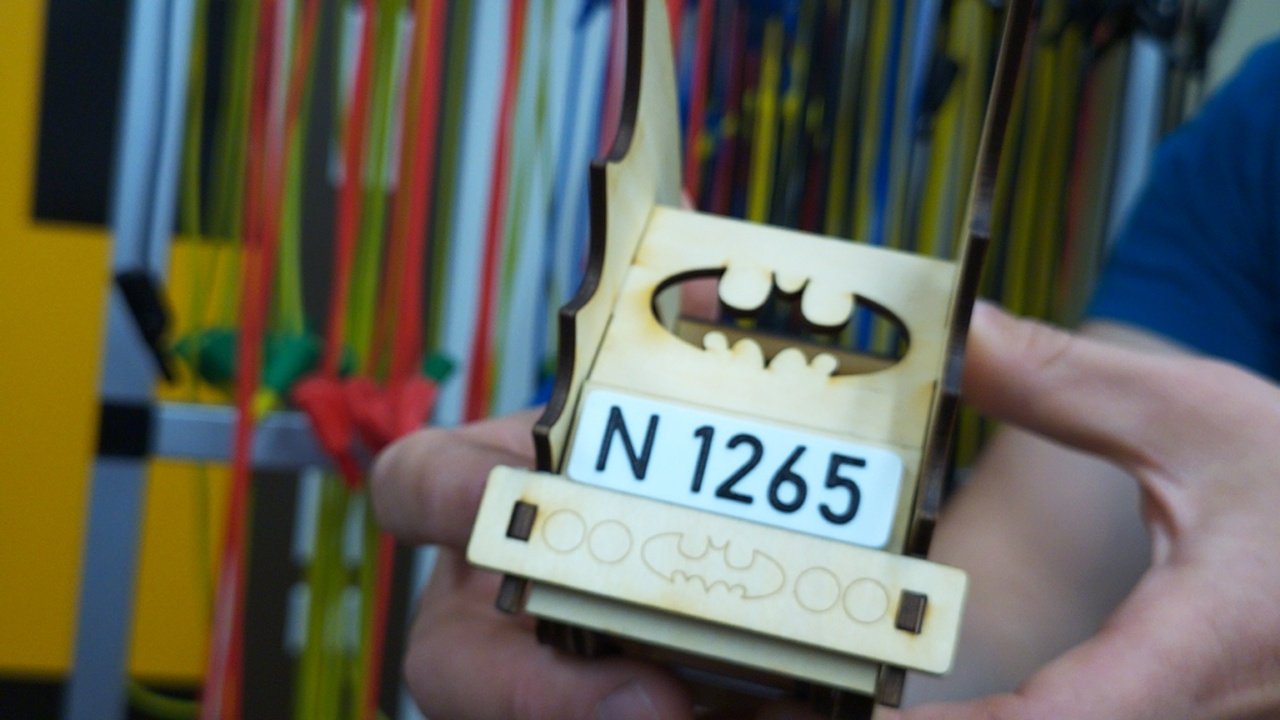license_plate: (567, 385, 907, 548)
